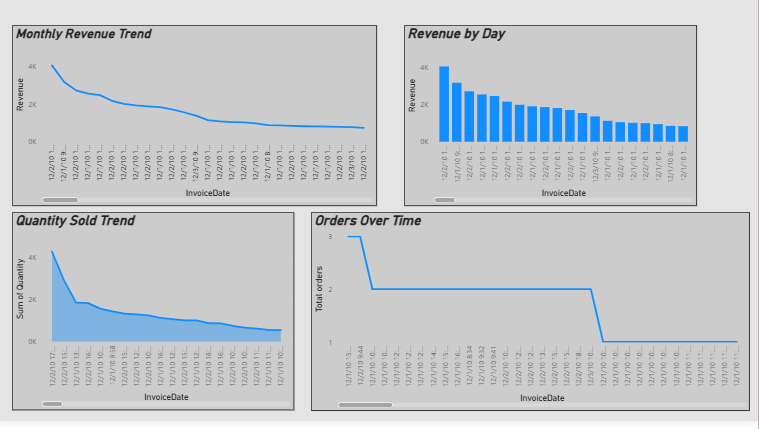

This screenshot's page, from the dashboard's own definition file:
{"tool":"powerbi","page":{"name":"Sales Trend Analysis","canvas":[1280,720],"ordinal":1},"visuals":[{"type":"lineChart","title":"Monthly Revenue Trend","fields":{"Category":["ecommerce_analysis online_retail_sales.InvoiceDate"],"Y":["ecommerce_analysis online_retail_sales.Revenue"]},"box":[26.9,55.4,613.1,304],"z":0},{"type":"areaChart","title":"Quantity Sold Trend","fields":{"Category":["ecommerce_analysis online_retail_sales.InvoiceDate"],"Y":["Sum(ecommerce_analysis online_retail_sales.Quantity)"]},"box":[26.9,369.6,473.7,332.6],"z":1},{"type":"columnChart","title":"Revenue by Day","fields":{"Category":["ecommerce_analysis online_retail_sales.InvoiceDate"],"Y":["ecommerce_analysis online_retail_sales.Revenue"]},"box":[685.4,55.4,492.2,304],"z":2},{"type":"lineChart","title":"Orders Over Time","fields":{"Category":["ecommerce_analysis online_retail_sales.InvoiceDate"],"Y":["ecommerce_analysis online_retail_sales.Total orders"]},"box":[529.1,369.6,737.4,334.3],"z":3}]}

Visuals, with their boxes in screenshot pixels (x1, y1, x2, y2), scaled from the page's 1280x720 canvas onto the 759x429 screenshot:
"Monthly Revenue Trend" lineChart: 16 33 380 214
"Quantity Sold Trend" areaChart: 16 220 297 418
"Revenue by Day" columnChart: 406 33 698 214
"Orders Over Time" lineChart: 314 220 751 419
